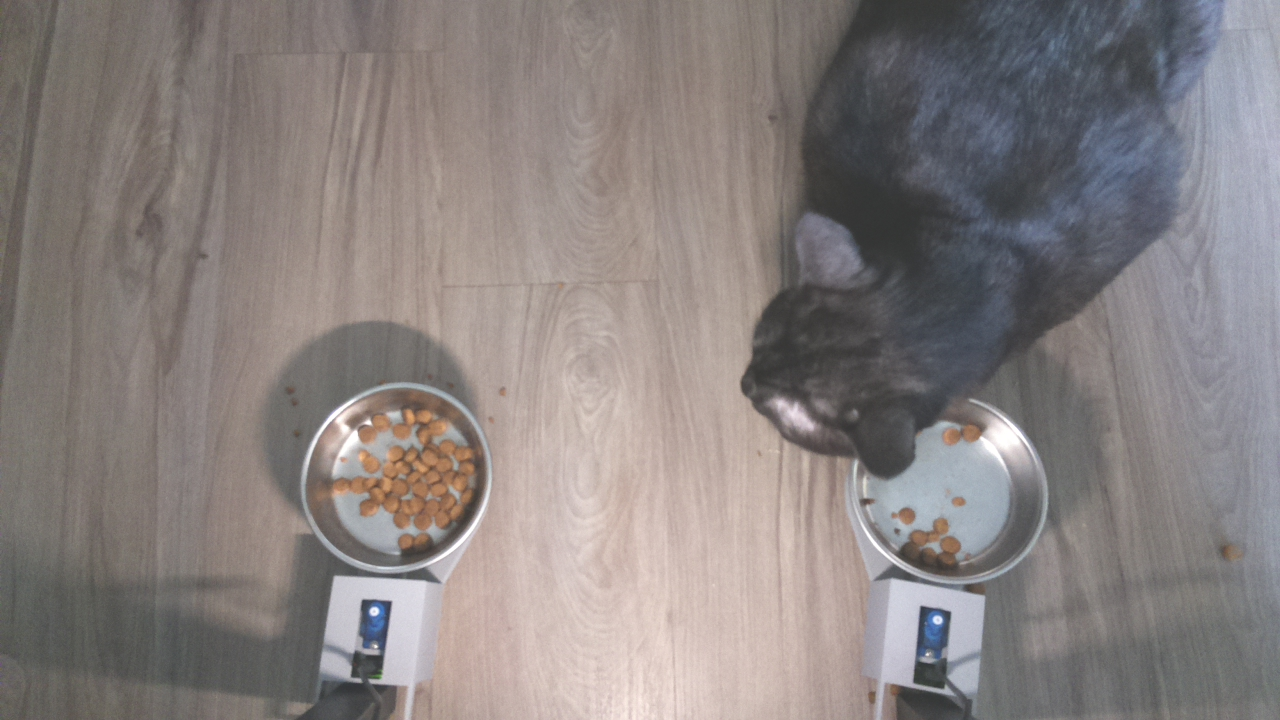open_bowl: (293, 373, 493, 573), (863, 407, 1059, 589)
saki: (725, 201, 1041, 476)
